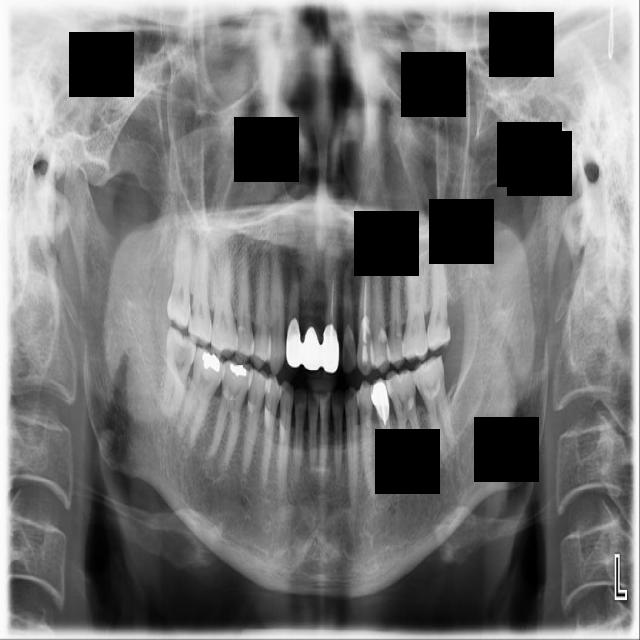3M ESPE Implant: (167, 231, 191, 330)
52: (282, 316, 344, 374), (183, 341, 235, 391), (410, 354, 450, 401), (216, 357, 256, 400), (385, 370, 418, 412), (367, 332, 393, 374), (370, 378, 390, 421), (356, 332, 375, 375), (264, 375, 283, 411)
73: (357, 244, 373, 335), (378, 418, 402, 477), (325, 270, 338, 327), (580, 560, 593, 579)
BioHorizons Implant: (422, 253, 452, 353)
Blue Sky Bio Implant: (409, 354, 463, 457)
Caries: (186, 244, 212, 348)
Implant: (174, 346, 229, 449)
Keystone Dental Implant: (161, 326, 198, 420)
